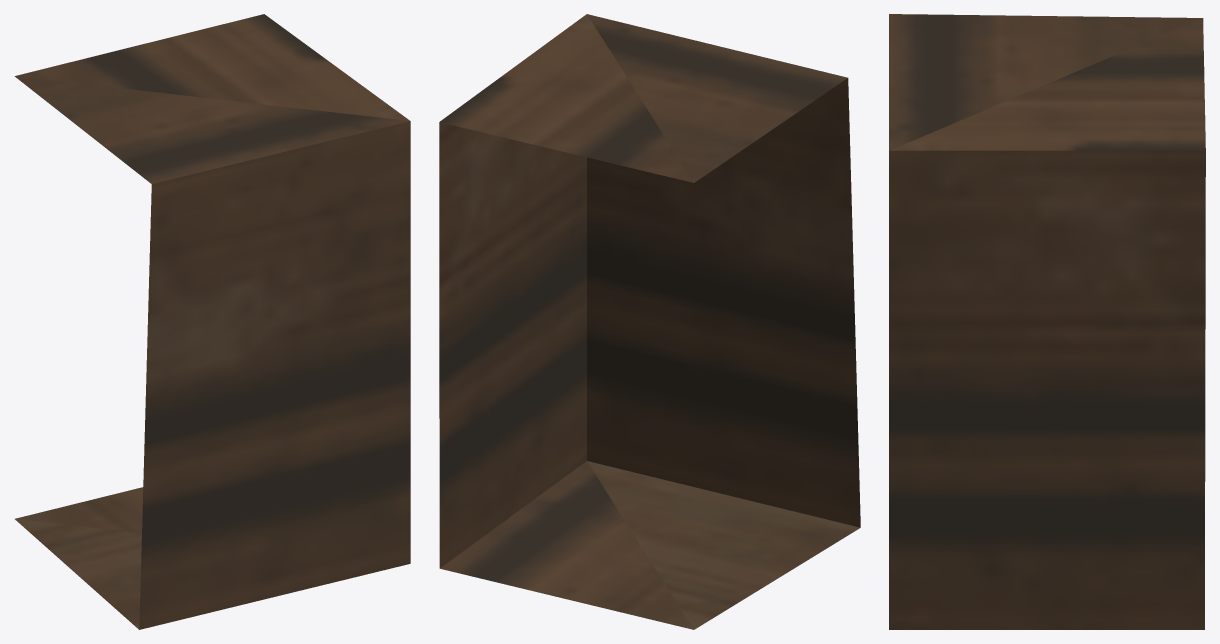
Rendered from TowerOverhang_BottomTrimCorner.fbx.
The picture shows the model from 3 angles, left to right: view 1: azimuth 30°, elevation 25°; view 2: azimuth 150°, elevation 25°; view 3: azimuth 270°, elevation 25°; orthographic projection. The views are drawn at different scales.
Visible parts, largest first — view 1: TowerOverhangBaseCorner; view 2: TowerOverhangBaseCorner; view 3: TowerOverhangBaseCorner.
Part boxes in pixels (left/top/right/bottom): TowerOverhangBaseCorner: left=14, top=14, right=410, bottom=629; TowerOverhangBaseCorner: left=439, top=14, right=860, bottom=629; TowerOverhangBaseCorner: left=889, top=14, right=1205, bottom=629.
Size of the model in its own units: 6.16 by 9.6 by 5.75.
